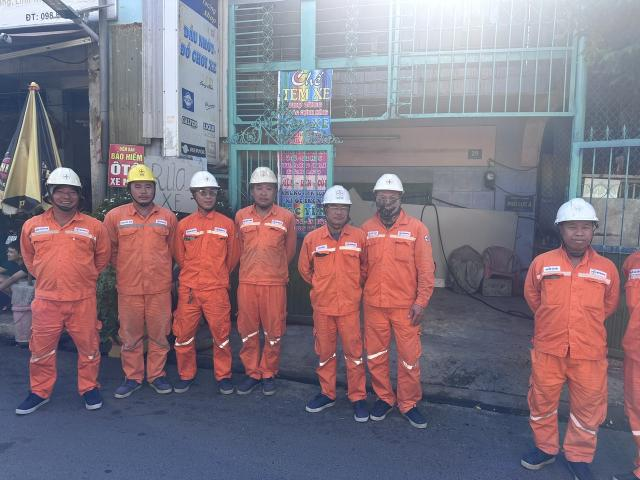helmet: (539, 196, 608, 230), (240, 161, 286, 189), (366, 170, 410, 198), (319, 184, 361, 209), (49, 169, 93, 191), (123, 165, 164, 187), (185, 170, 224, 190)
shoes: (9, 383, 54, 419), (514, 445, 564, 474), (399, 400, 431, 435), (141, 369, 176, 400), (74, 384, 109, 414), (366, 389, 398, 421), (564, 454, 602, 480), (304, 386, 336, 414), (254, 371, 287, 398), (113, 371, 141, 402), (173, 369, 200, 397), (350, 392, 371, 426), (214, 374, 238, 399), (236, 378, 262, 401), (609, 464, 640, 480)
